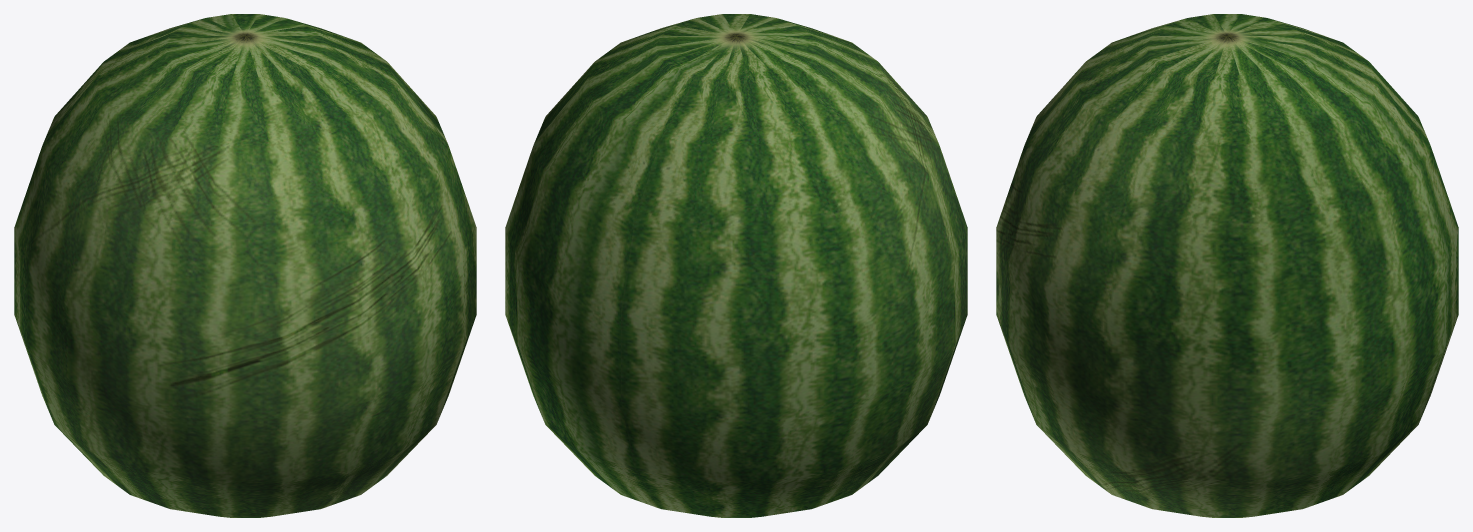
File: Watermelon.FBX
The picture shows the model from 3 angles, left to right: view 1: azimuth 30°, elevation 25°; view 2: azimuth 150°, elevation 25°; view 3: azimuth 270°, elevation 25°; orthographic projection.
Parts seen in each view (by area): view 1: Watermelon; view 2: Watermelon; view 3: Watermelon.
Boxes of the visible parts, x1,y1,x2,y2 form: Watermelon: (14, 14, 476, 517); Watermelon: (505, 14, 967, 517); Watermelon: (996, 14, 1458, 517).
Size of the model in its own units: 87.2 by 96.6 by 88.55.
